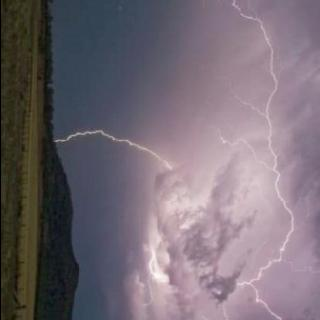Cumulonimbus: (117, 0, 320, 320)
